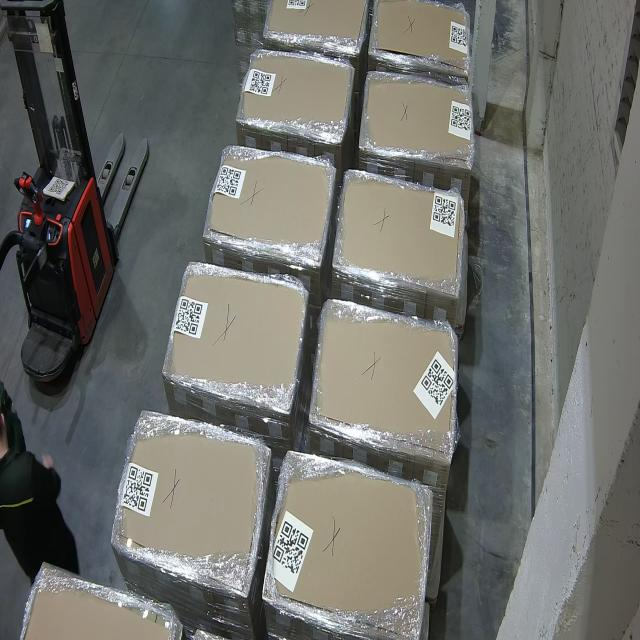pallet: (260, 450, 441, 640), (112, 399, 266, 610), (308, 291, 462, 473), (156, 260, 304, 436), (339, 168, 469, 308), (207, 145, 335, 275), (359, 65, 477, 175), (235, 41, 353, 148), (371, 1, 473, 65), (262, 0, 366, 53)
worker: (0, 0, 158, 396)
